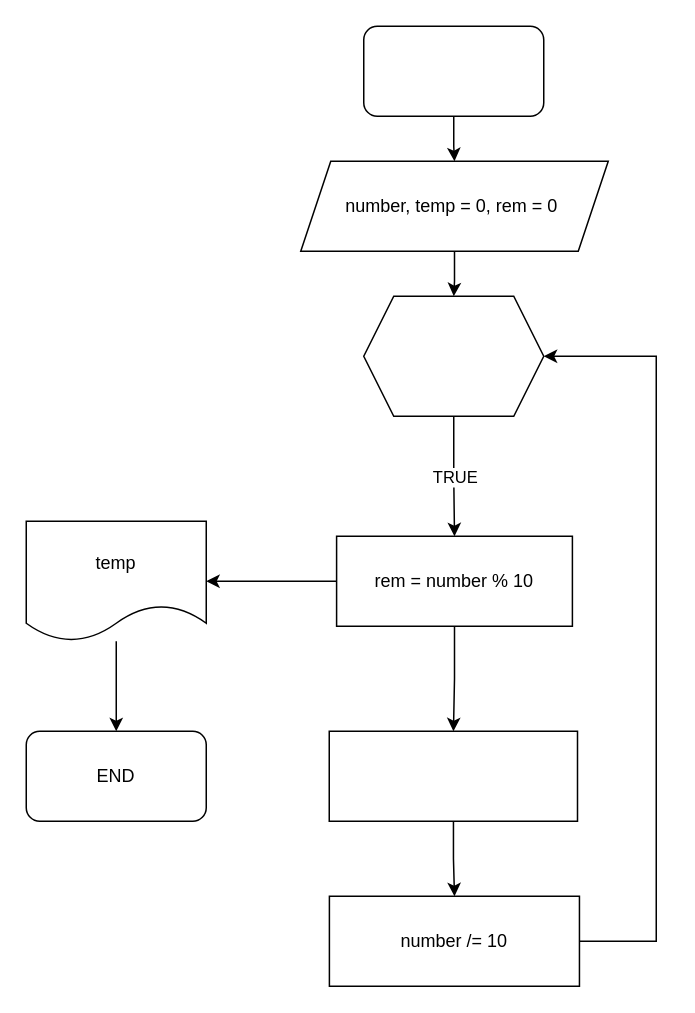
This 695x1013 diagram has some shape labels left out. The shapes that lost their labels are listed below. From the top down, each one's centre as x and y in pixels, then its label:
At (453,70): "START".
At (453,355): "number > 0".
At (453,775): "temp = (temp * 10) + rem".
